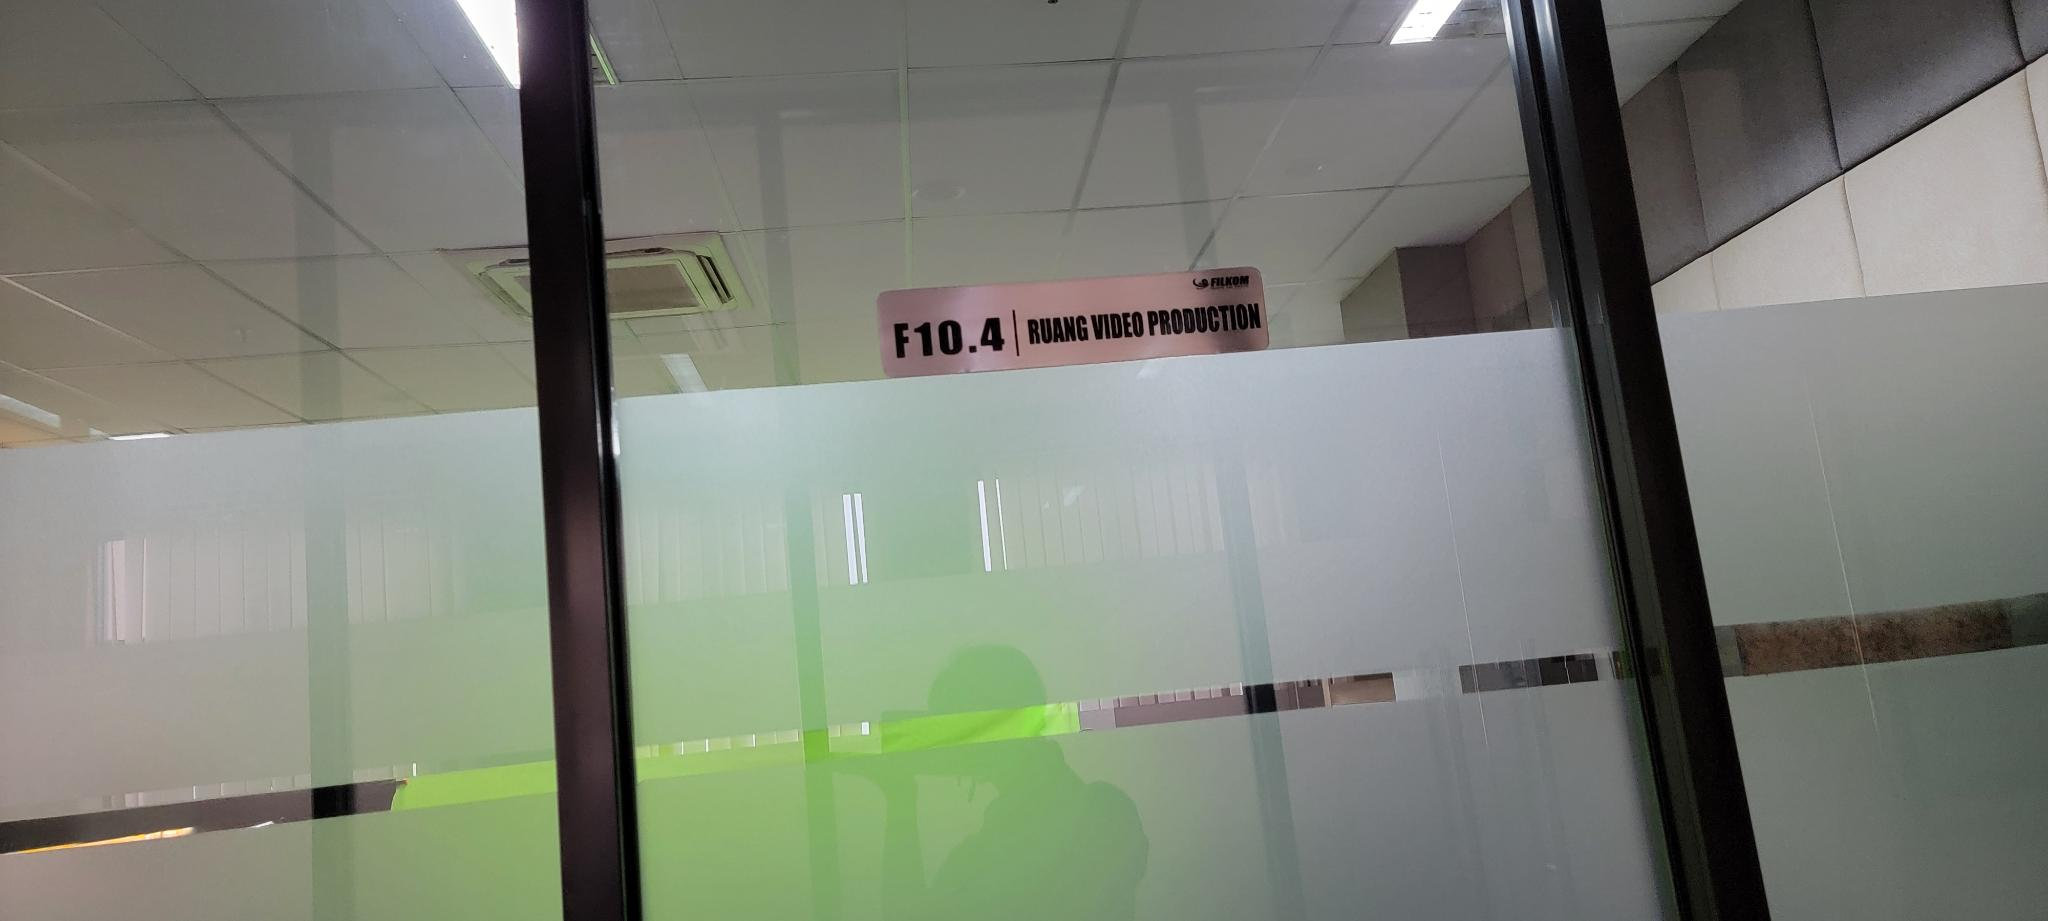plate: (874, 265, 1267, 380)
